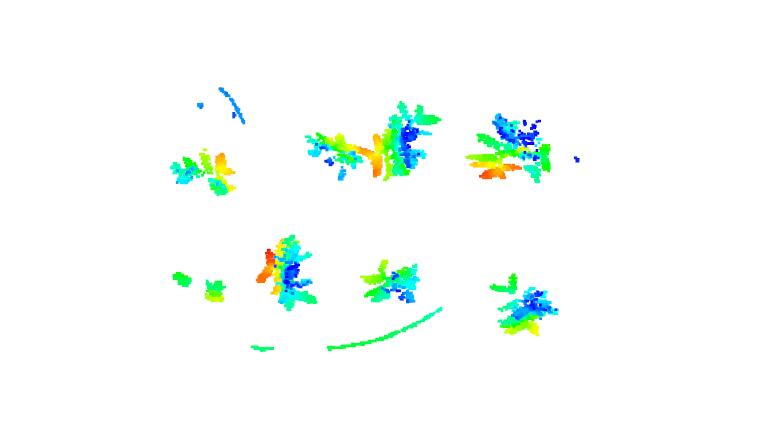chickpea: (362, 100, 442, 183), (468, 111, 553, 187), (257, 233, 319, 316), (487, 272, 557, 336), (169, 148, 237, 197), (359, 258, 422, 305), (306, 133, 363, 181), (170, 269, 228, 305)
